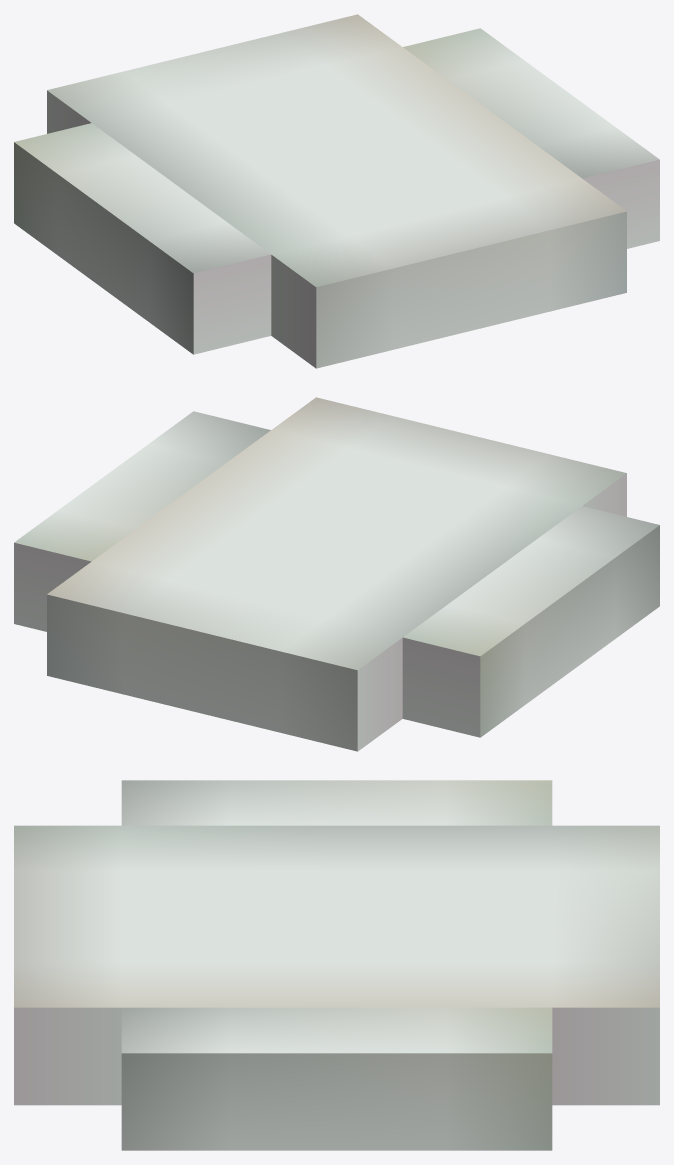
File: Plate_05.fbx
3 renders of one model, top to bottom at view 1: azimuth 30°, elevation 25°; view 2: azimuth 150°, elevation 25°; view 3: azimuth 270°, elevation 25°, orthographic. The views are drawn at different scales.
Visible parts, largest first — view 1: Plate_05; view 2: Plate_05; view 3: Plate_05.
Part boxes in pixels (bbox=[...]): Plate_05: bbox=[14, 14, 659, 368]; Plate_05: bbox=[14, 397, 659, 751]; Plate_05: bbox=[14, 780, 659, 1150].
Size of the model in its own units: 30 by 30 by 5.
1 material, 1 textured.
